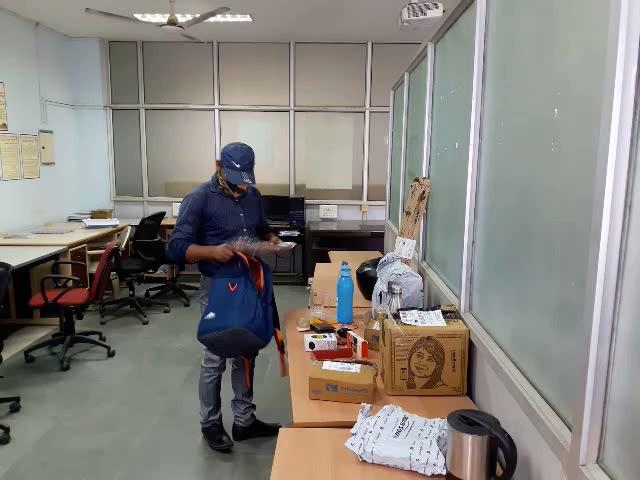Normal: (4, 4, 594, 476)
shoplifting: (162, 201, 348, 374)
